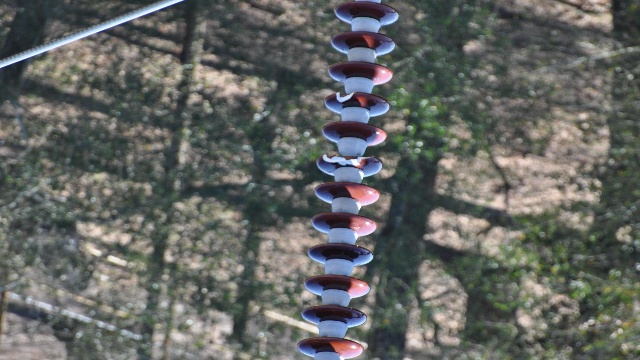broken_local: (322, 151, 378, 168), (331, 89, 360, 103)
insulator_unspecified: (298, 3, 398, 356)
